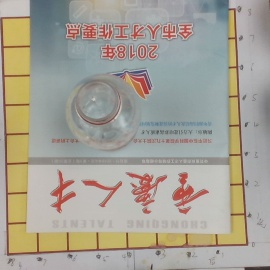bottle: (66, 76, 142, 152)
